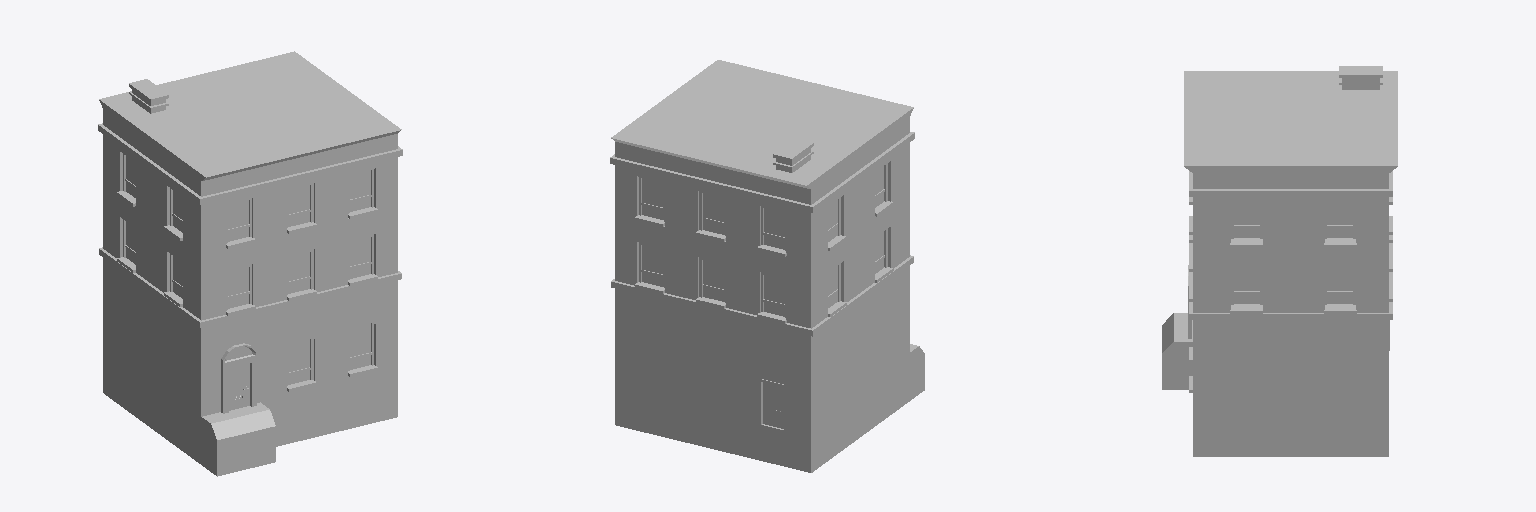
File: EverythingLibrary_Buildings_GeorgianHome3.obj
The picture shows the model from 3 angles: view 1: azimuth 30°, elevation 25°; view 2: azimuth 150°, elevation 25°; view 3: azimuth 270°, elevation 25°; orthographic projection.
Parts seen in each view (by area): view 1: base.105_Mesh.302, windowRefl.075_Mesh.300; view 2: base.105_Mesh.302, windowRefl.075_Mesh.300; view 3: base.105_Mesh.302, windowRefl.075_Mesh.300.
Boxes of the visible parts, x1=… form: base.105_Mesh.302: x1=98, y1=51, x2=402, y2=476; windowRefl.075_Mesh.300: x1=126, y1=156, x2=370, y2=384; base.105_Mesh.302: x1=610, y1=60, x2=924, y2=472; windowRefl.075_Mesh.300: x1=642, y1=166, x2=883, y2=316; base.105_Mesh.302: x1=1162, y1=66, x2=1397, y2=456; windowRefl.075_Mesh.300: x1=1234, y1=203, x2=1352, y2=303.
Size of the model in its own units: 11.16 by 16.12 by 11.27.